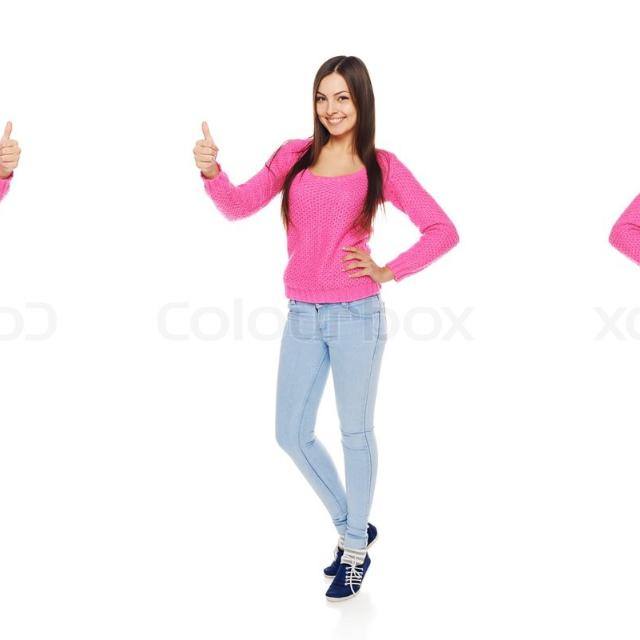person: (172, 28, 454, 640), (0, 28, 40, 640), (611, 28, 640, 640)
